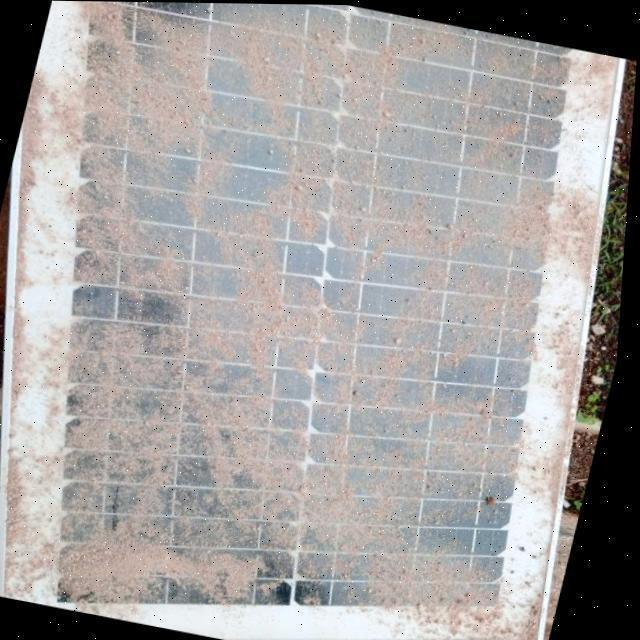Anomaly Solar Panel: (0, 0, 640, 640)
Surface Contaminant: (22, 2, 606, 623)
